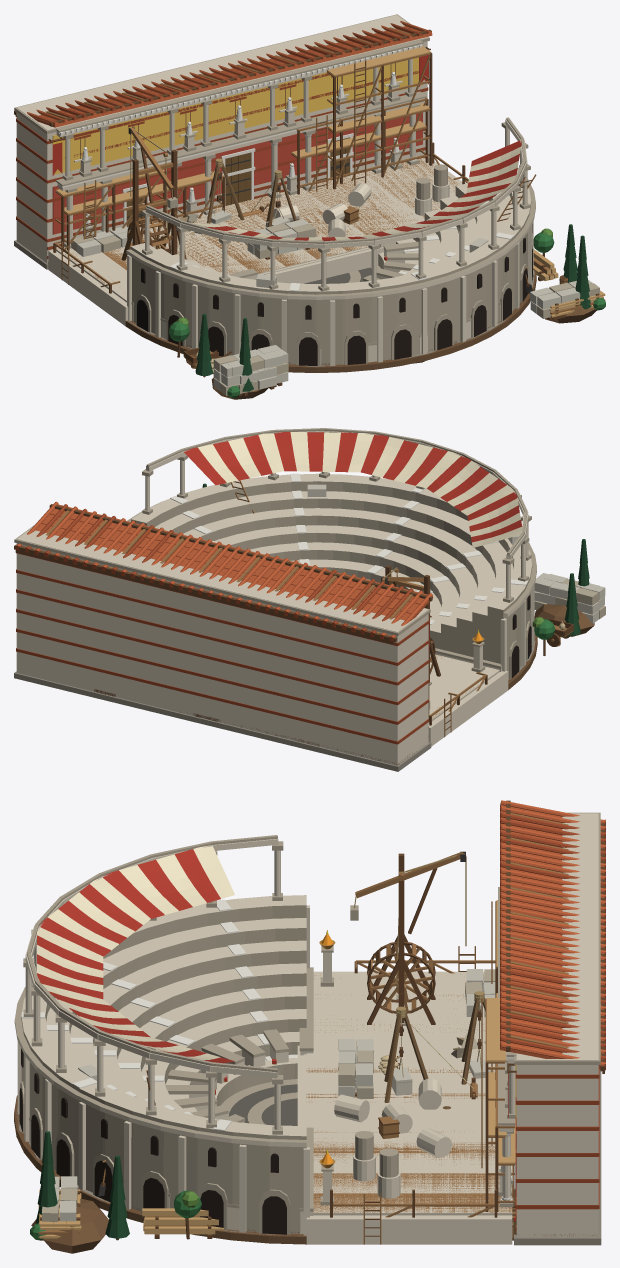
Rendered from GrossesTheater.fbx.
3 renders of one model, top to bottom at view 1: azimuth 30°, elevation 25°; view 2: azimuth 150°, elevation 25°; view 3: azimuth 270°, elevation 25°, orthographic. The views are drawn at different scales.
Visible parts, largest first — view 1: GrossesTheater_3, GrossesTheater_2, GrossesTheater_4, GrossesTheater_1, GrossesTheater_0; view 2: GrossesTheater_3, GrossesTheater_2, GrossesTheater_4, GrossesTheater_1, GrossesTheater_0; view 3: GrossesTheater_2, GrossesTheater_3, GrossesTheater_4, GrossesTheater_1, GrossesTheater_0.
Boxes of the visible parts, bbox=[...] form: GrossesTheater_3: bbox=[14, 14, 605, 395]; GrossesTheater_2: bbox=[14, 97, 605, 395]; GrossesTheater_4: bbox=[15, 21, 605, 397]; GrossesTheater_1: bbox=[16, 142, 599, 395]; GrossesTheater_0: bbox=[71, 158, 597, 399]; GrossesTheater_3: bbox=[14, 428, 573, 744]; GrossesTheater_2: bbox=[14, 480, 605, 771]; GrossesTheater_4: bbox=[15, 432, 589, 672]; GrossesTheater_1: bbox=[16, 573, 599, 765]; GrossesTheater_0: bbox=[429, 604, 594, 709]; GrossesTheater_2: bbox=[22, 851, 601, 1245]; GrossesTheater_3: bbox=[14, 800, 605, 1238]; GrossesTheater_4: bbox=[21, 800, 605, 1240]; GrossesTheater_1: bbox=[29, 931, 598, 1244]; GrossesTheater_0: bbox=[14, 969, 516, 1253].
Bounding box in the file's own units: 7.23 × 2.91 × 7.2.
